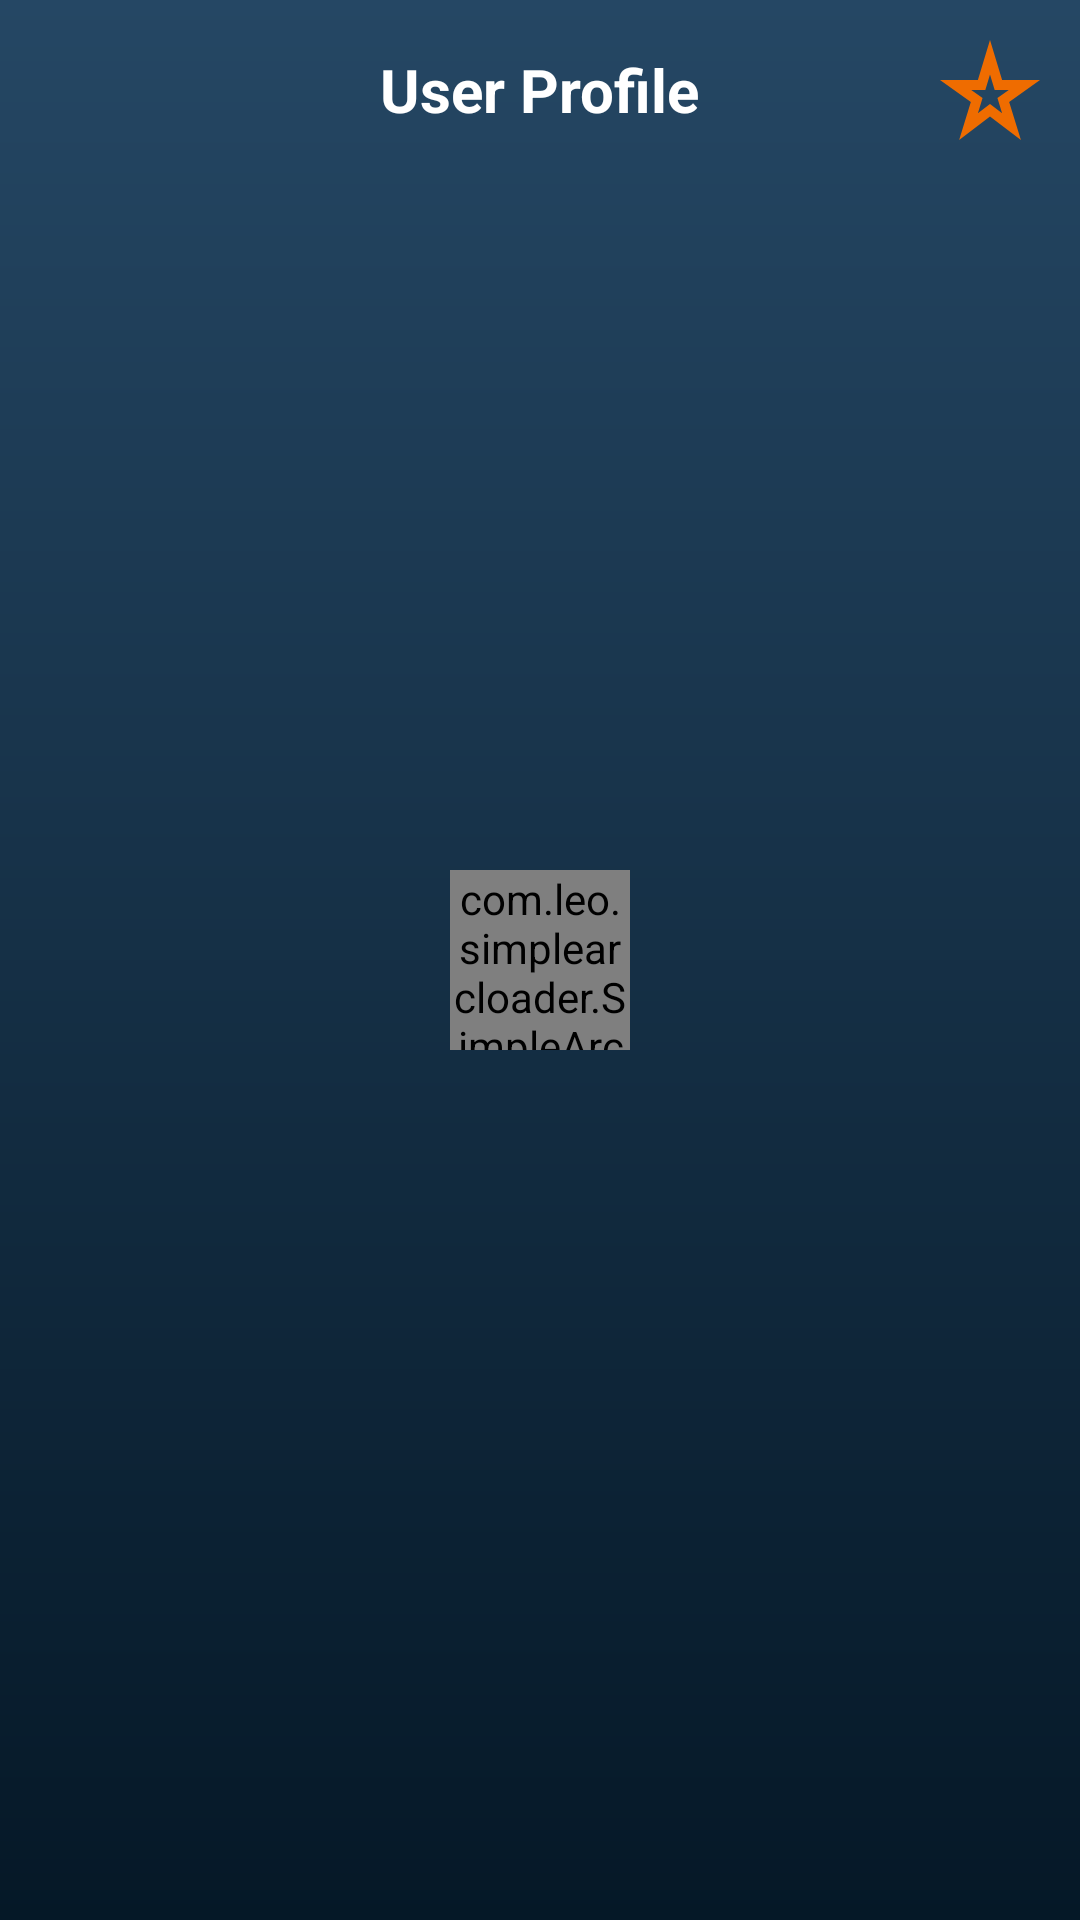

Point at icon controls on the screen. Image size 1080 x 1920, points as point (x, y).
star border: point (990, 90)
